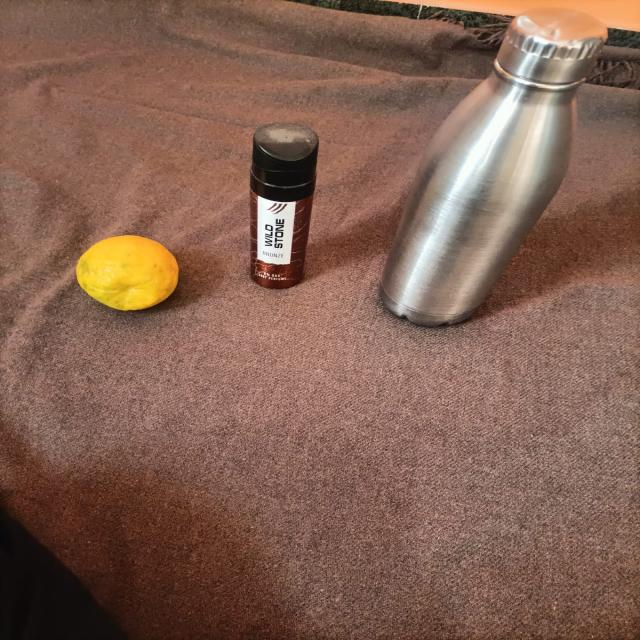bottle: (351, 0, 604, 353)
orange: (60, 229, 197, 321)
spray: (233, 118, 341, 312)
